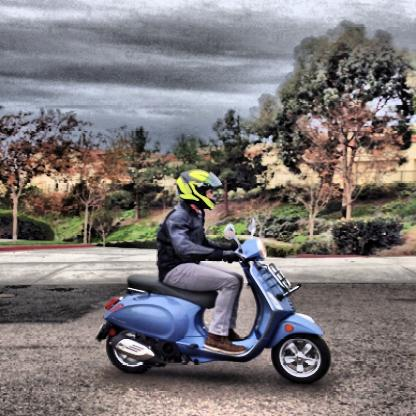wear: (178, 172, 216, 211)
